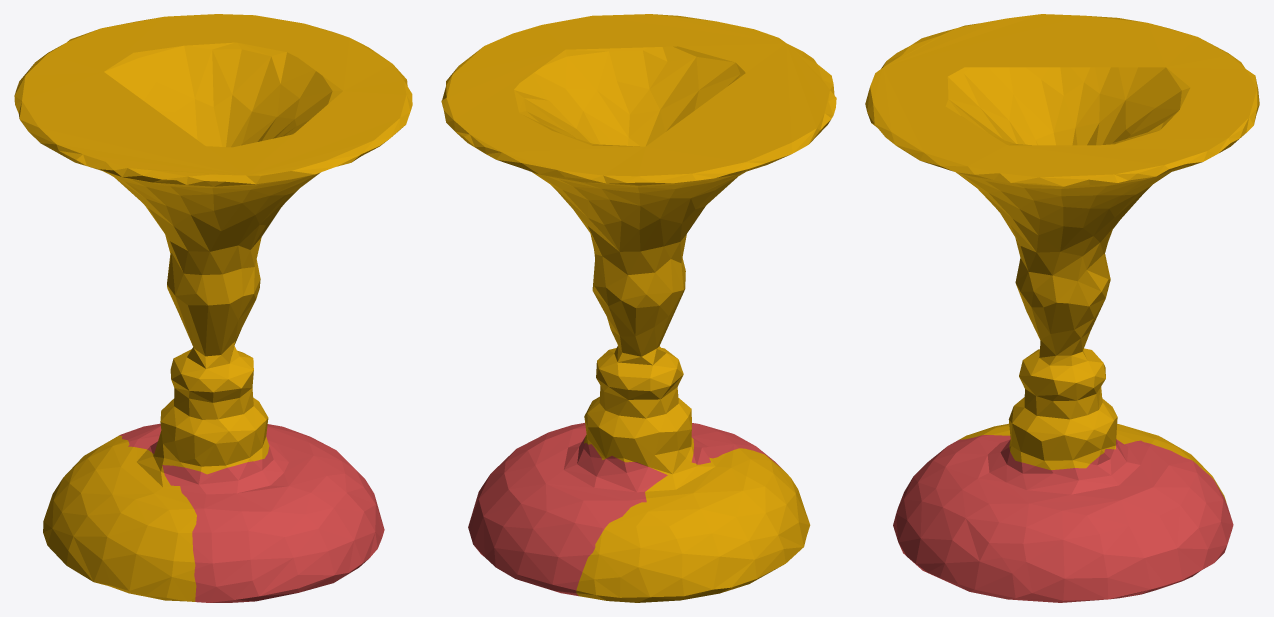
File: fractured_79_2pcs.glb
3 renders of one model, left to right at view 1: azimuth 30°, elevation 25°; view 2: azimuth 150°, elevation 25°; view 3: azimuth 270°, elevation 25°, orthographic.
Parts seen in each view (by area): view 1: piece_0.obj, piece_1.obj; view 2: piece_0.obj, piece_1.obj; view 3: piece_0.obj, piece_1.obj.
Boxes of the visible parts, x1,y1,x2,y2 form: piece_0.obj: [14, 14, 412, 601]; piece_1.obj: [119, 423, 384, 602]; piece_0.obj: [441, 14, 836, 602]; piece_1.obj: [468, 423, 780, 596]; piece_0.obj: [865, 14, 1259, 503]; piece_1.obj: [893, 435, 1233, 602].
Bounding box in the file's own units: 0.8186 × 1 × 0.815.
